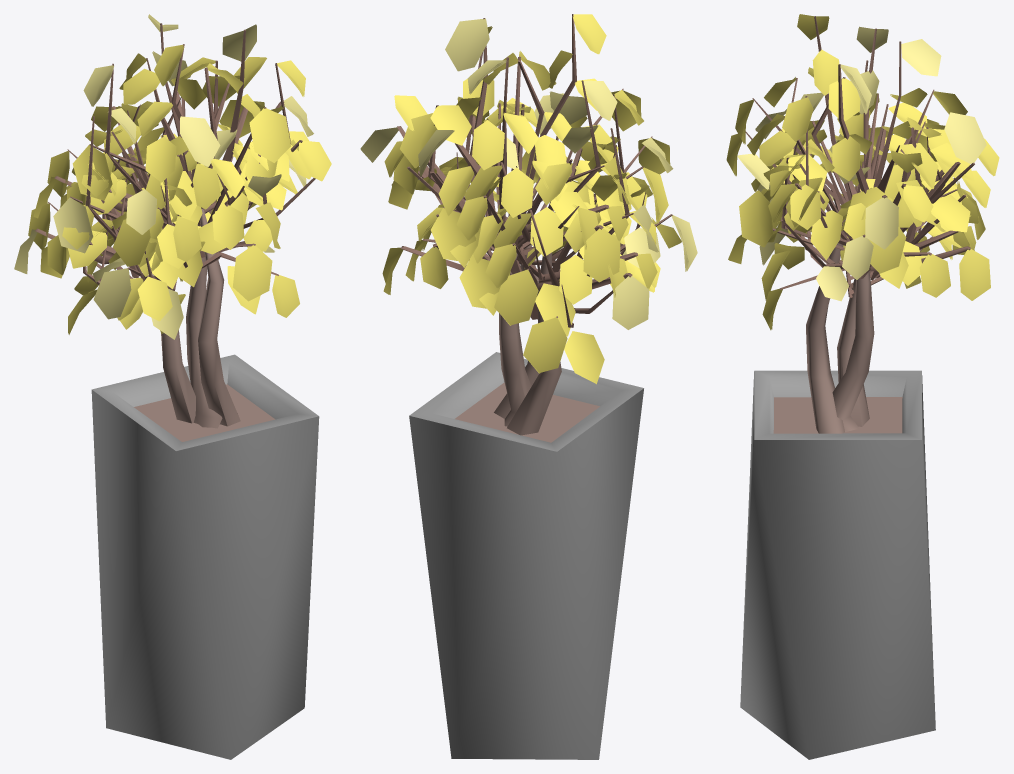
Rendered from flower_031.fbx.
3 views of the same model, side by side, from view 1: azimuth 30°, elevation 25°; view 2: azimuth 150°, elevation 25°; view 3: azimuth 270°, elevation 25° (orthographic). The views are drawn at different scales.
Visible parts, largest first — view 1: flower_031; view 2: flower_031; view 3: flower_031.
Boxes of the visible parts, x1,y1,x2,y2 form: flower_031: (14,14,331,759); flower_031: (360,14,697,759); flower_031: (726,14,999,759).
Size of the model in its own units: 58.1 by 48.36 by 134.
